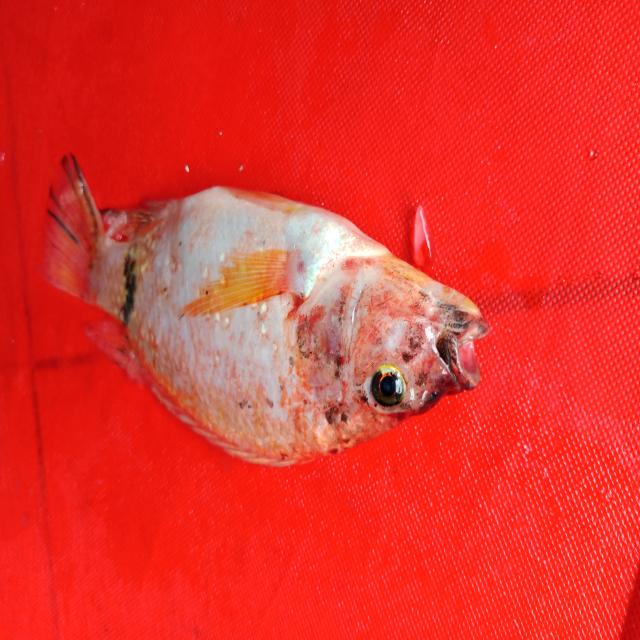ikan: (27, 141, 495, 484)
